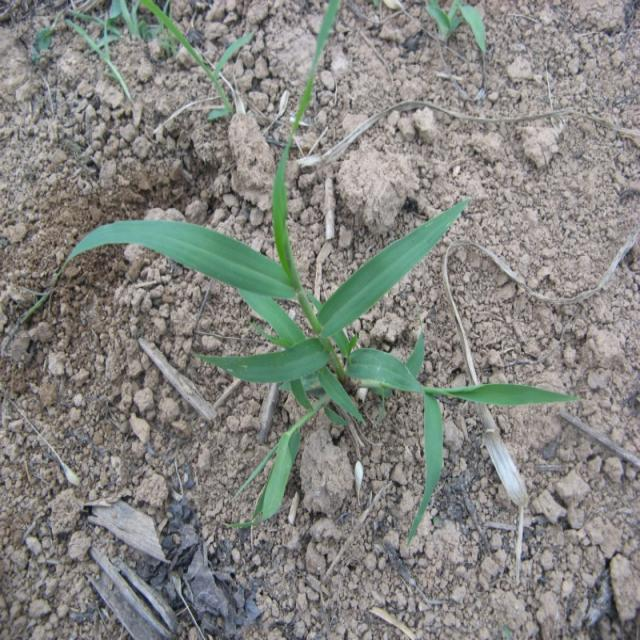bg: (68, 126, 564, 512)
